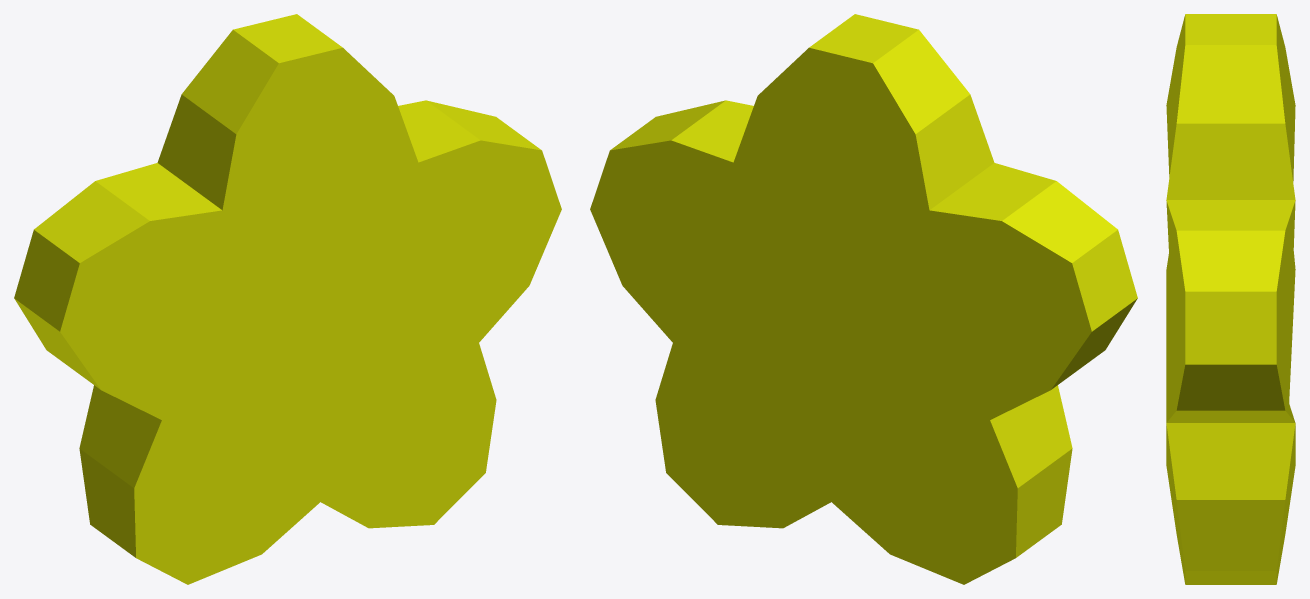
The model's file is etoile1.fbx.
The picture shows the model from 3 angles, left to right: view 1: azimuth 30°, elevation 25°; view 2: azimuth 150°, elevation 25°; view 3: azimuth 270°, elevation 25°; orthographic projection.
Parts seen in each view (by area): view 1: Cylindre.022; view 2: Cylindre.022; view 3: Cylindre.022.
Part boxes in pixels (<box>): Cylindre.022: <box>14,14,561,584</box>; Cylindre.022: <box>590,14,1137,584</box>; Cylindre.022: <box>1166,14,1295,584</box>.
Size of the model in its own units: 67.74 by 64.42 by 15.2.
